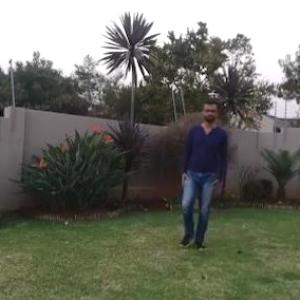follow: (179, 103, 220, 242)
